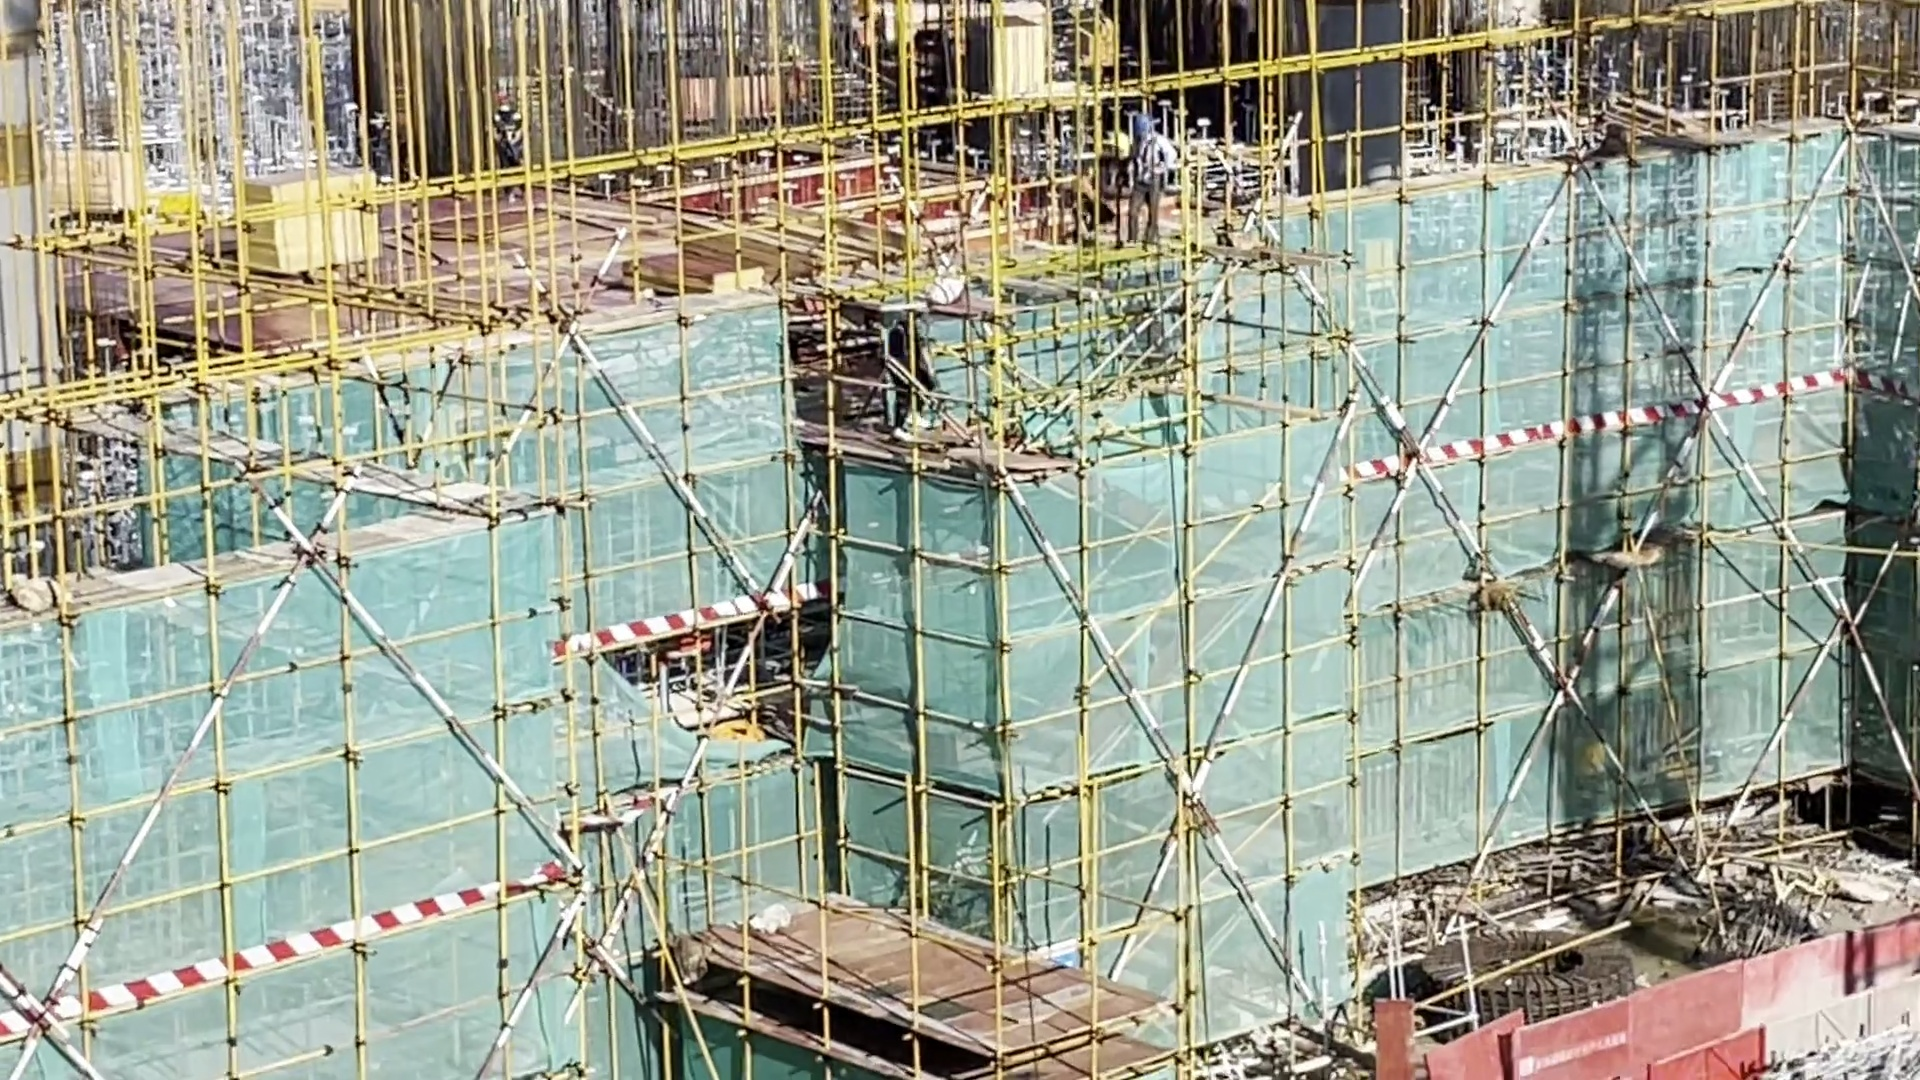helmet: (1131, 110, 1160, 146), (494, 89, 514, 113)
person: (1122, 101, 1178, 248), (479, 84, 532, 183)
vest: (1129, 146, 1173, 184)
